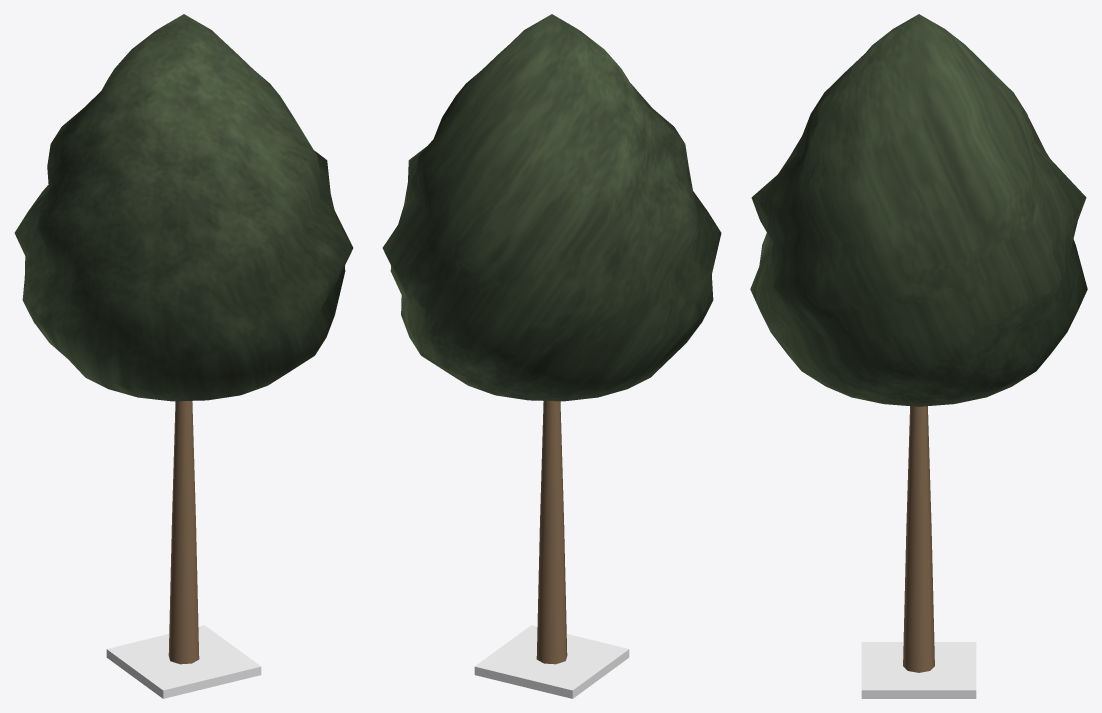
File: tree.fbx
3 views of the same model, side by side, from view 1: azimuth 30°, elevation 25°; view 2: azimuth 150°, elevation 25°; view 3: azimuth 270°, elevation 25° (orthographic).
Parts seen in each view (by area): view 1: tree.006; view 2: tree.006; view 3: tree.006.
Part boxes in pixels (x1,y1,x2,y2): tree.006: [14, 14, 353, 698]; tree.006: [382, 14, 721, 698]; tree.006: [750, 14, 1087, 698].
Bounding box in the file's own units: 2.5 × 5.4 × 2.5.
